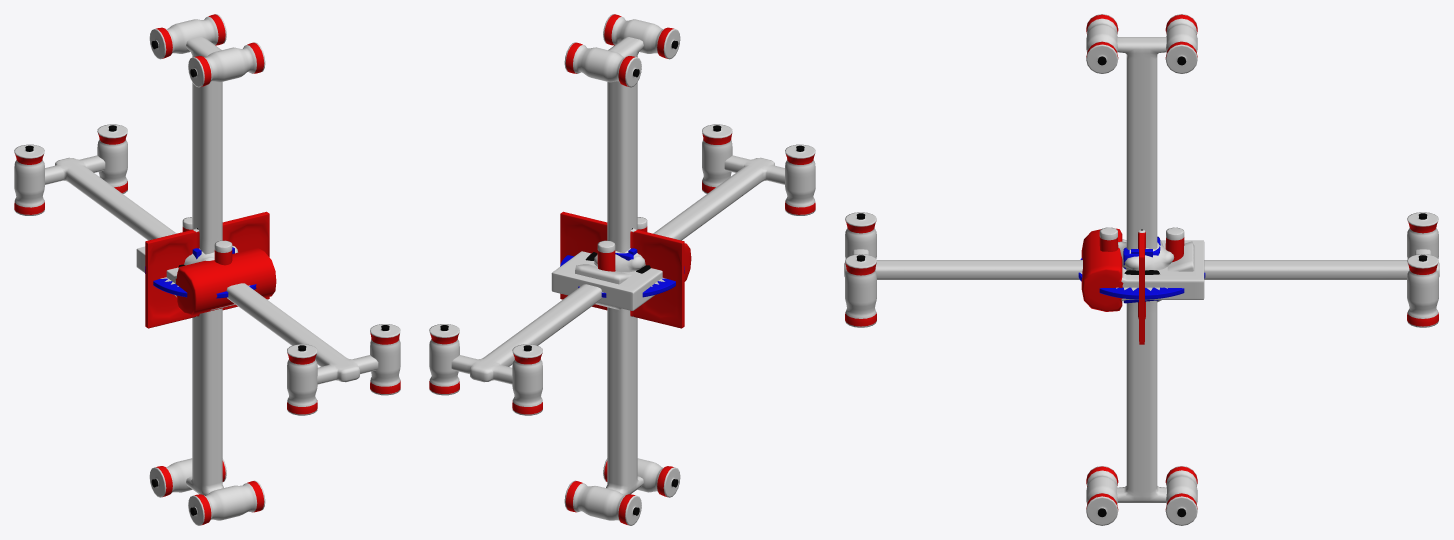
File: obstacle vol 2 low smooth.fbx
3 views of the same model, side by side, from view 1: azimuth 30°, elevation 25°; view 2: azimuth 150°, elevation 25°; view 3: azimuth 270°, elevation 25° (orthographic). The views are drawn at different scales.
Visible parts, largest first — view 1: obs1, obs2, obs3, obs26, base; view 2: obs1, obs2, obs3, obs26, obs14, obs19, base; view 3: obs1, obs3, obs26, base, obs19, obs2.
Part boxes in pixels (box(x1,y1,x2,y2)): obs1: box(14, 14, 400, 525); obs2: box(145, 211, 269, 328); obs3: box(136, 246, 276, 315); obs26: box(182, 217, 232, 265); base: box(145, 266, 256, 298); obs1: box(429, 14, 815, 525); obs2: box(560, 211, 684, 328); obs3: box(551, 243, 691, 310); obs26: box(597, 217, 647, 271); obs14: box(575, 264, 631, 310); obs19: box(594, 248, 645, 272); base: box(560, 255, 684, 297); obs1: box(844, 14, 1439, 525); obs3: box(1081, 228, 1204, 311); obs26: box(1099, 227, 1184, 302); base: box(1078, 258, 1205, 299); obs19: box(1118, 240, 1174, 301); obs2: box(1138, 229, 1145, 344).
Bounding box in the file's own units: 133 × 486 × 545.
